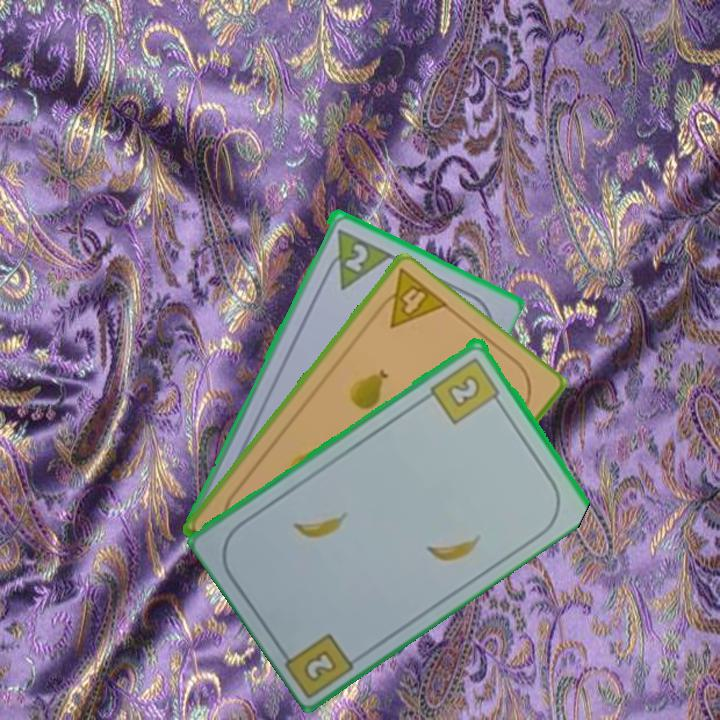2b: (427, 353, 505, 427), (299, 645, 340, 685)
2p: (318, 224, 392, 292)
4p: (368, 265, 451, 331)
